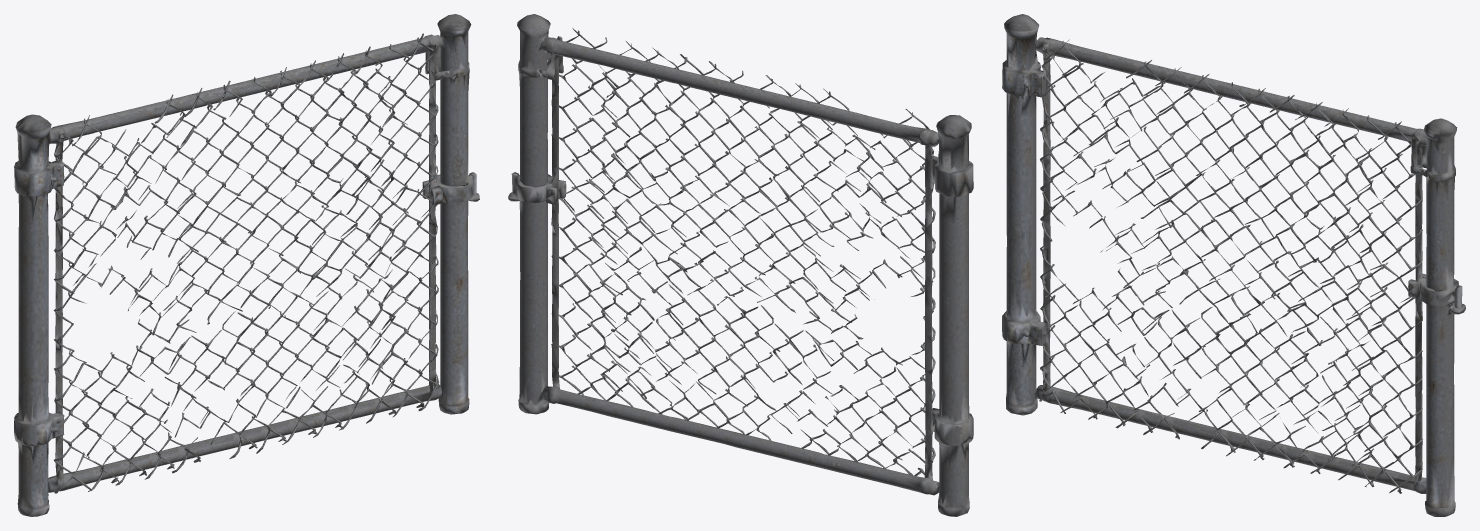
Rendered from fence_gate.glb.
3 views of the same model, side by side, from view 1: azimuth 30°, elevation 25°; view 2: azimuth 150°, elevation 25°; view 3: azimuth 330°, elevation 25° (orthographic).
Visible parts, largest first — view 1: fence_gate; view 2: fence_gate; view 3: fence_gate.
Boxes of the visible parts, x1,y1,x2,y2 form: fence_gate: (14,14,479,516); fence_gate: (508,14,973,516); fence_gate: (1002,14,1465,516).
Size of the model in its own units: 190 by 156 by 14.69.
Materials: 1 (1 with a texture image).
